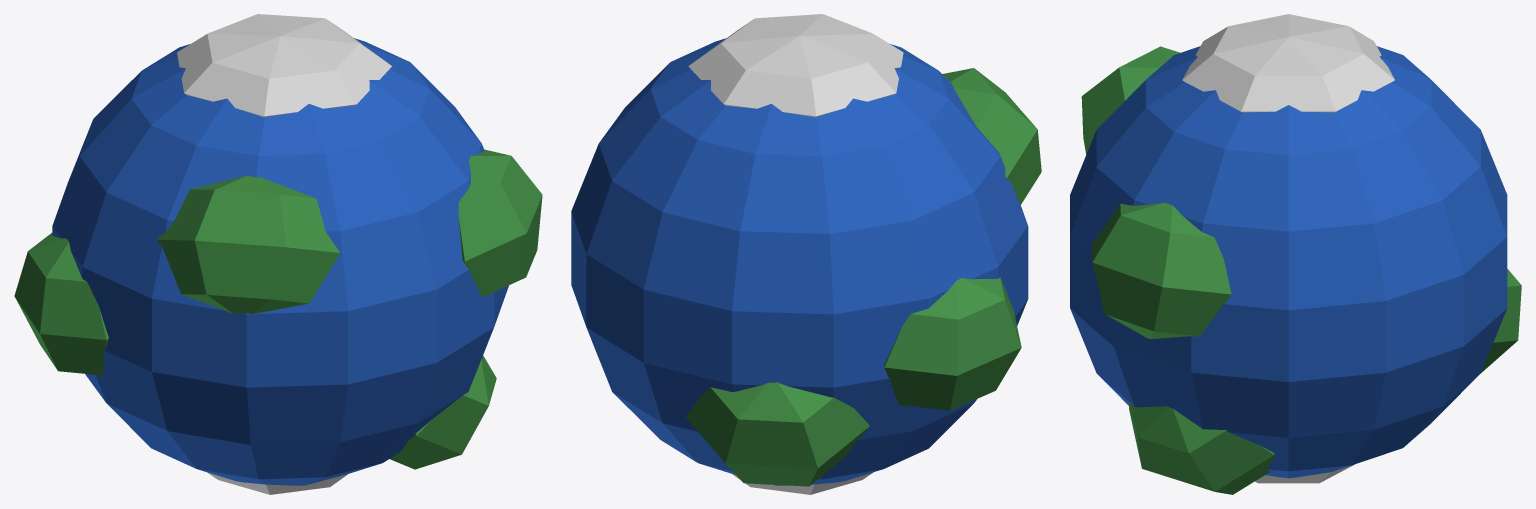
Rendered from earth.glb.
3 renders of one model, left to right at view 1: azimuth 30°, elevation 25°; view 2: azimuth 150°, elevation 25°; view 3: azimuth 270°, elevation 25°, orthographic. The views are drawn at different scales.
Visible parts, largest first — view 1: earth; view 2: earth; view 3: earth.
Part boxes in pixels (<box>): earth: <box>14,14,542,494</box>; earth: <box>571,14,1041,494</box>; earth: <box>1070,14,1521,494</box>.
Bounding box in the file's own units: 0.5334 × 0.52 × 0.4961.
